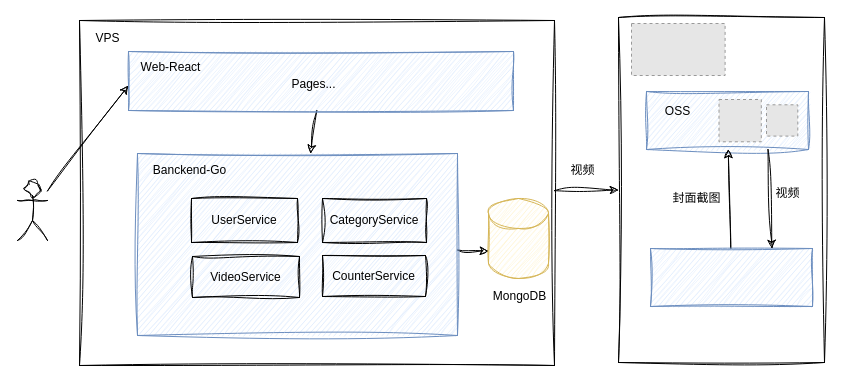
This 842x383 diagram has some shape labels left out. Grey dashed boxes stand in for pictures. Each missing label, with the box of its shape:
User: (16, 180, 48, 240)
截图服务: (650, 248, 812, 306)
